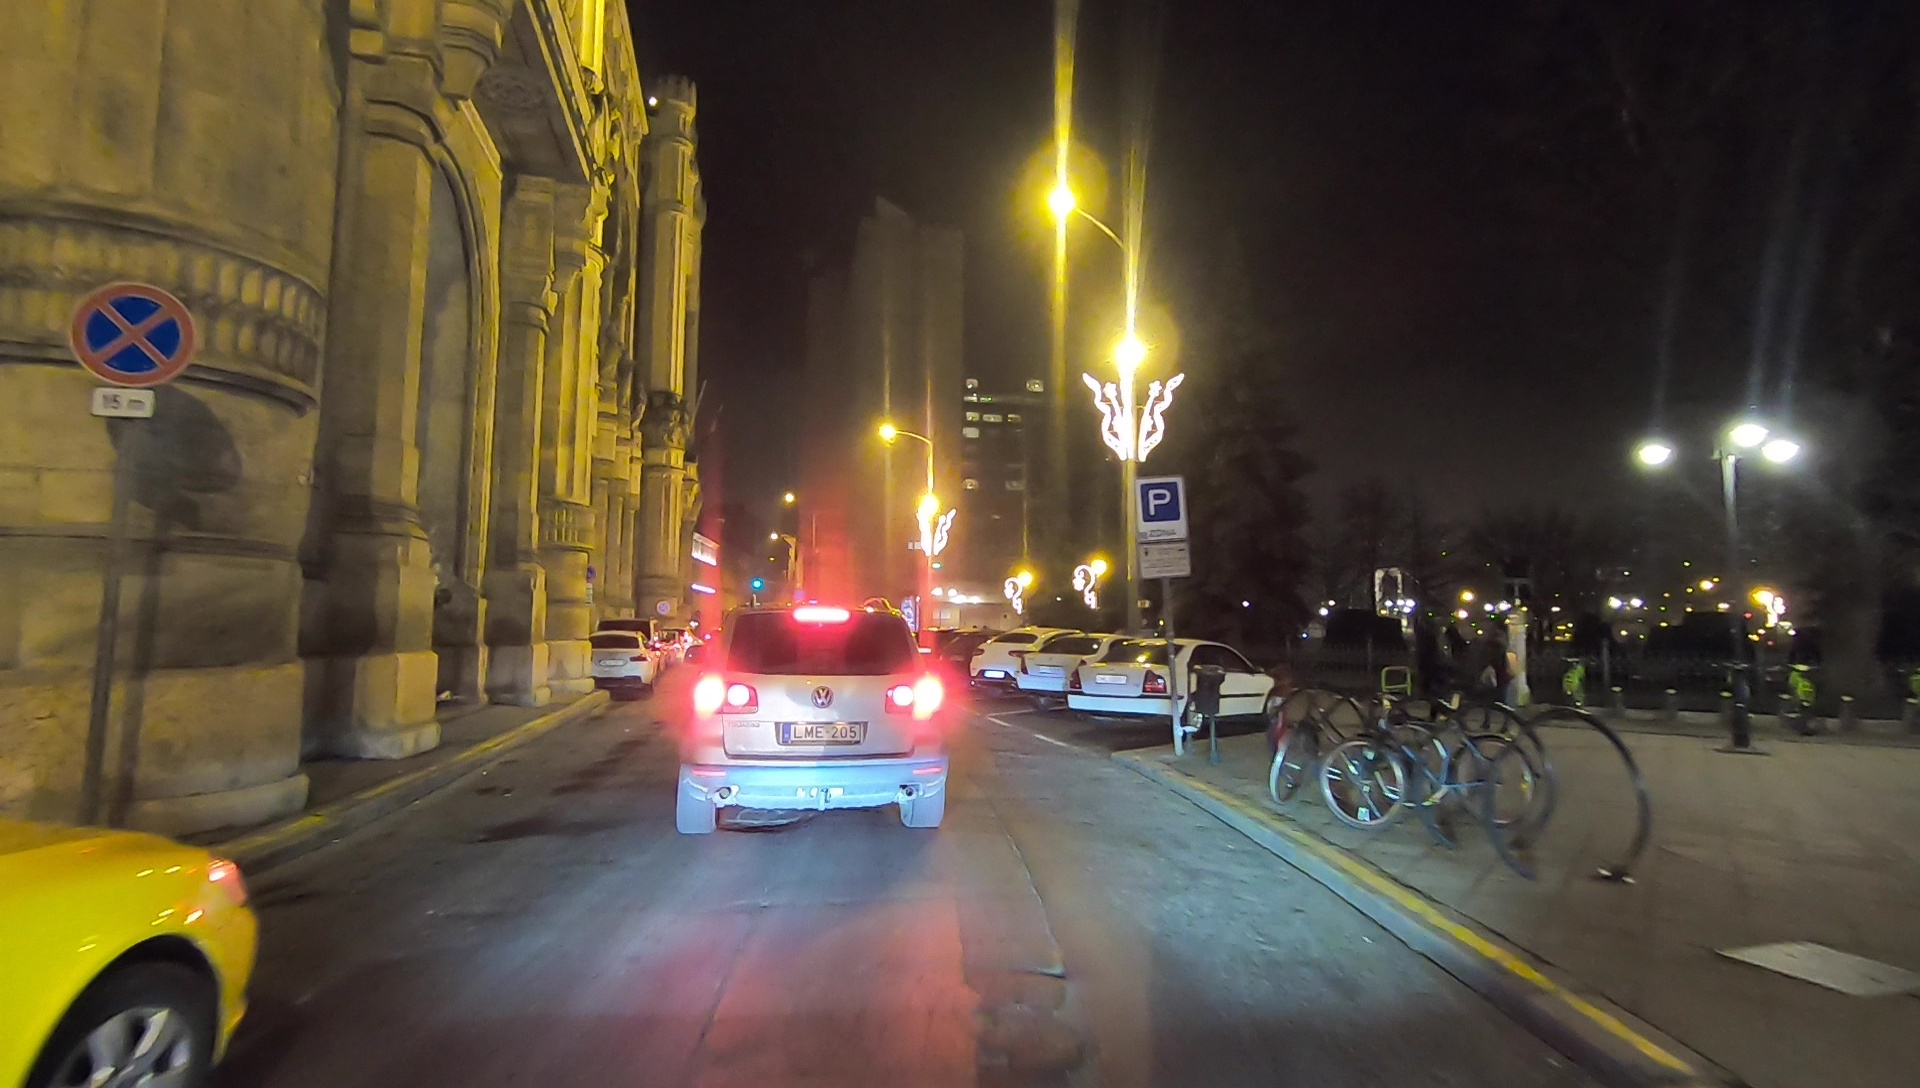person: (1474, 623, 1520, 725)
